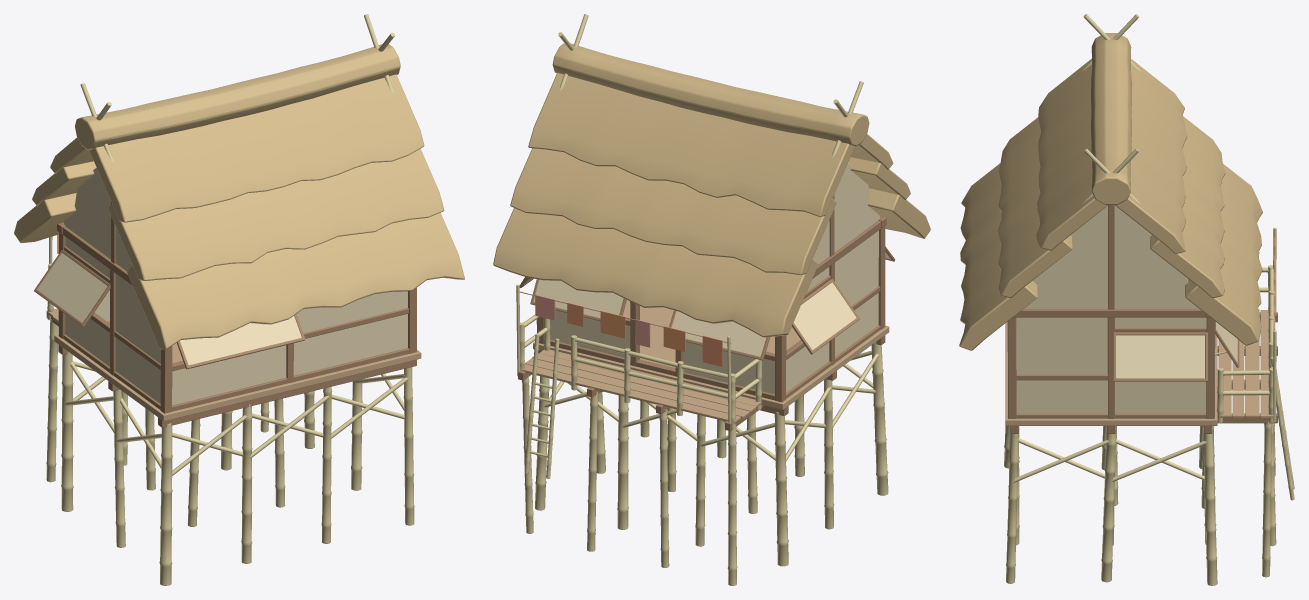
The model's file is house_water_8919.glb.
The picture shows the model from 3 angles, left to right: view 1: azimuth 30°, elevation 25°; view 2: azimuth 150°, elevation 25°; view 3: azimuth 270°, elevation 25°; orthographic projection. The views are drawn at different scales.
Visible parts, largest first — view 1: water_8919_thatch, water_8919_sawali, water_8919_bamboo, water_8919_timber, water_8919_plank; view 2: water_8919_thatch, water_8919_bamboo, water_8919_sawali, water_8919_plank, water_8919_timber, water_8919_cloth; view 3: water_8919_thatch, water_8919_sawali, water_8919_bamboo, water_8919_timber, water_8919_plank.
Boxes of the visible parts, x1,y1,x2,y2 form: water_8919_thatch: (14,44,464,349); water_8919_sawali: (37,168,407,405); water_8919_bamboo: (46,14,414,585); water_8919_timber: (34,201,416,427); water_8919_plank: (46,308,421,421); water_8919_thatch: (493,43,930,337); water_8919_bamboo: (516,14,888,585); water_8919_sawali: (524,163,890,394); water_8919_plank: (522,300,889,423); water_8919_timber: (518,195,895,430); water_8919_cloth: (516,291,731,366); water_8919_thatch: (959,33,1262,350); water_8919_sawali: (1016,205,1237,413); water_8919_bamboo: (1004,14,1294,585); water_8919_timber: (1007,205,1277,433); water_8919_plank: (1005,309,1273,425).
Bounding box in the file's own units: 7.22 × 10.26 × 7.03.
